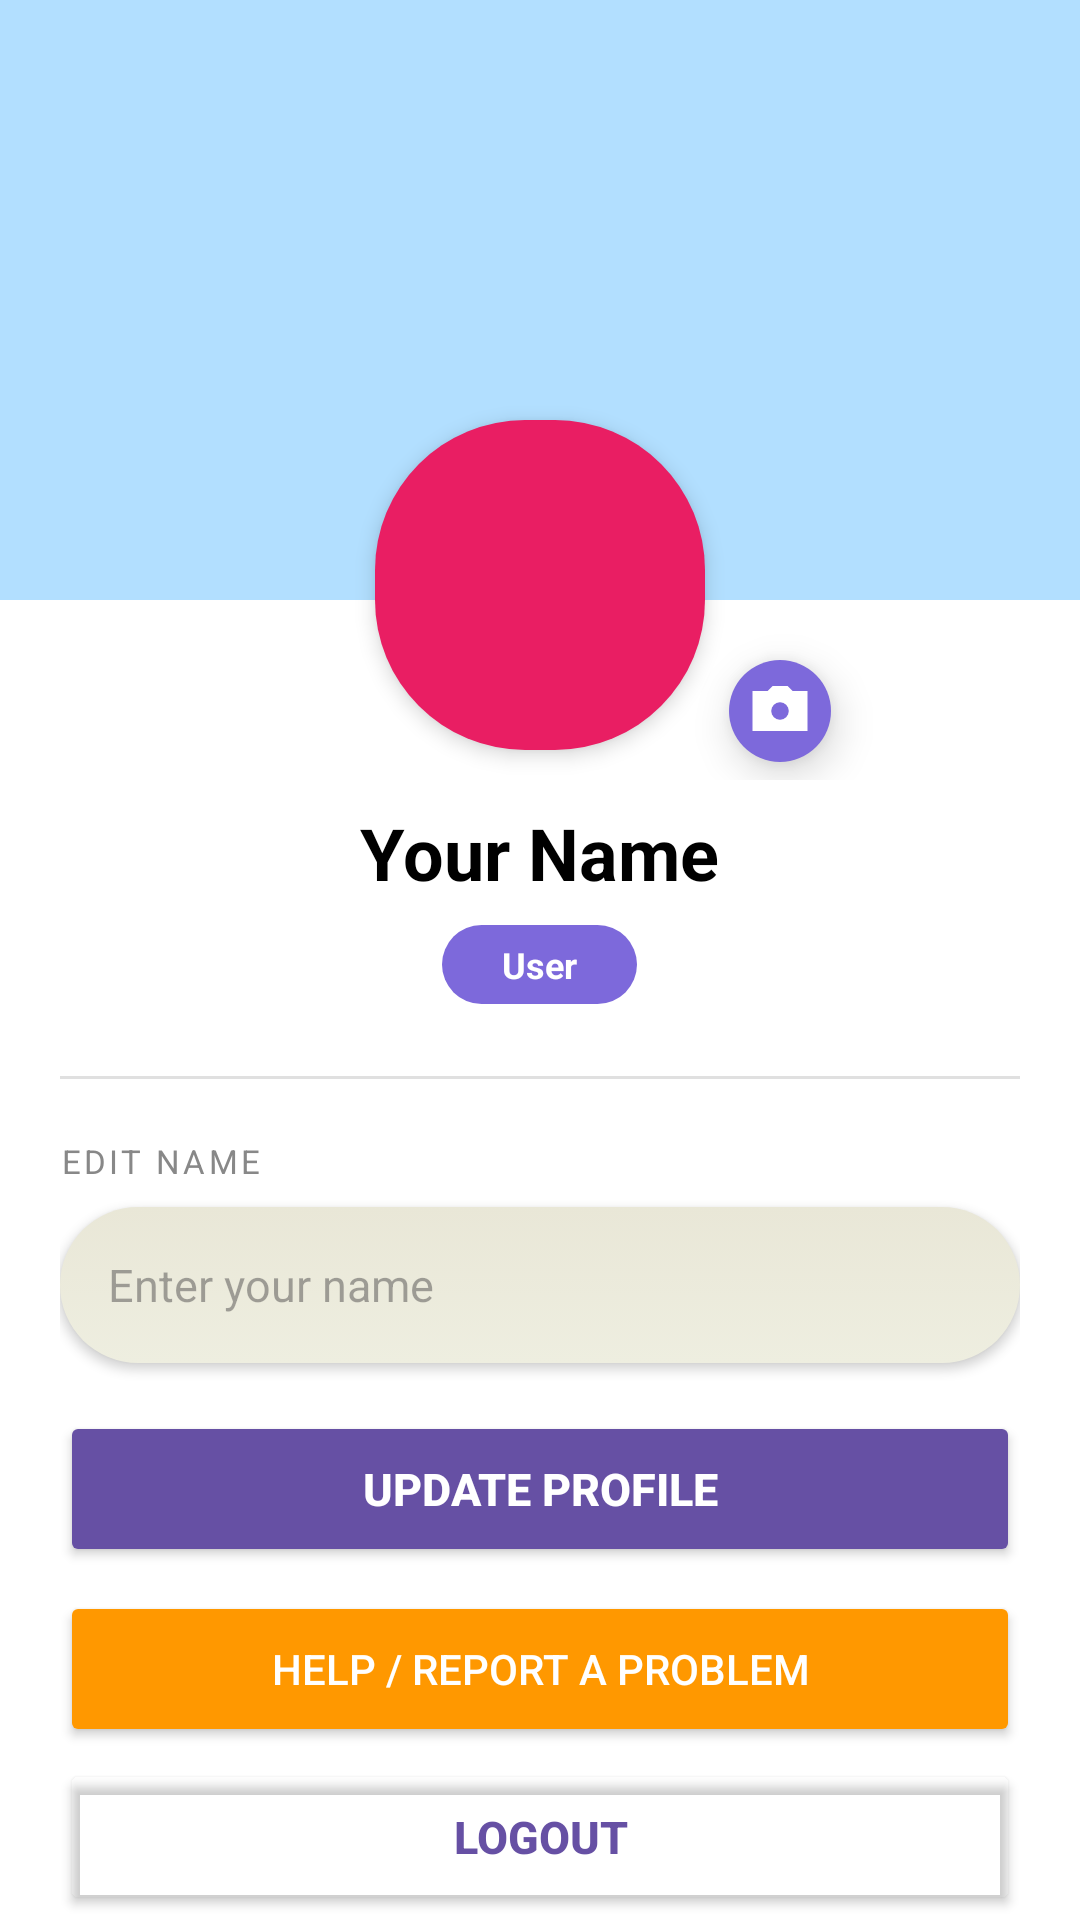

Icons on this 1080×1920 Android screen, each with the point to tap as point (x, y):
camera: point (780, 711)
